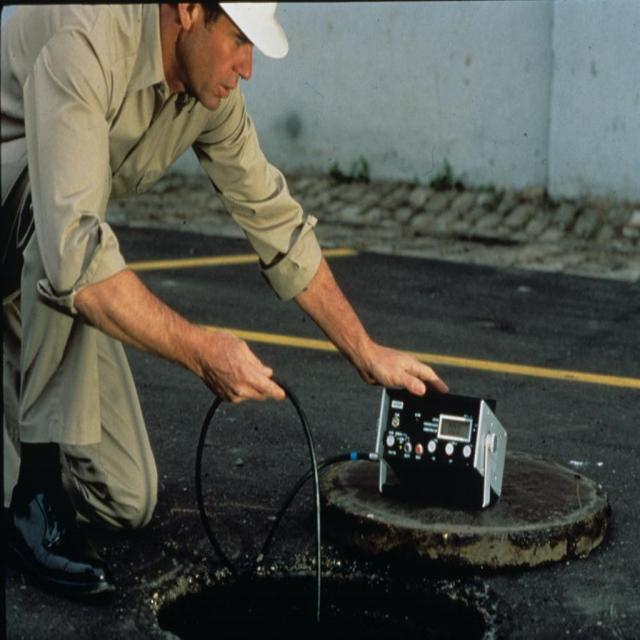nomask: (198, 2, 258, 116)
